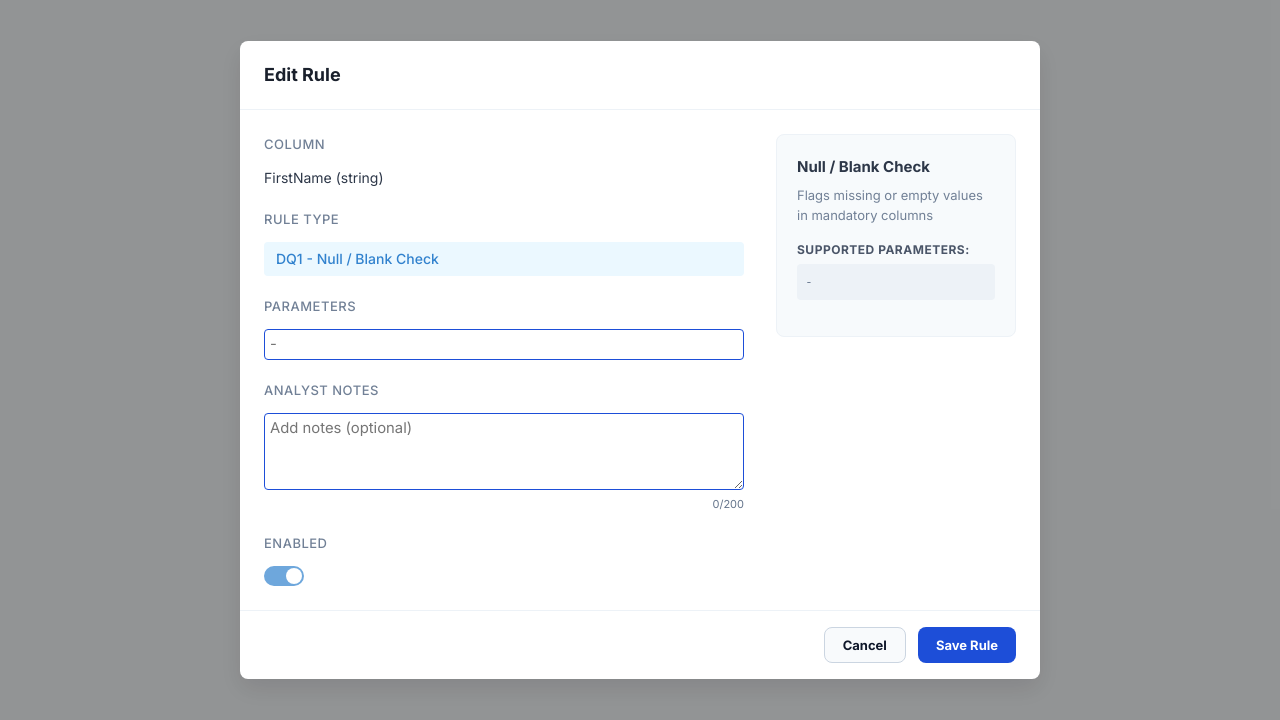
it: RuleEditModal - Analyst Notes limit › updates the counter as the user types
Type "hello" into the text box with placeholder "Add notes (optional)". click: (504,452)
box: [264, 413, 744, 490]
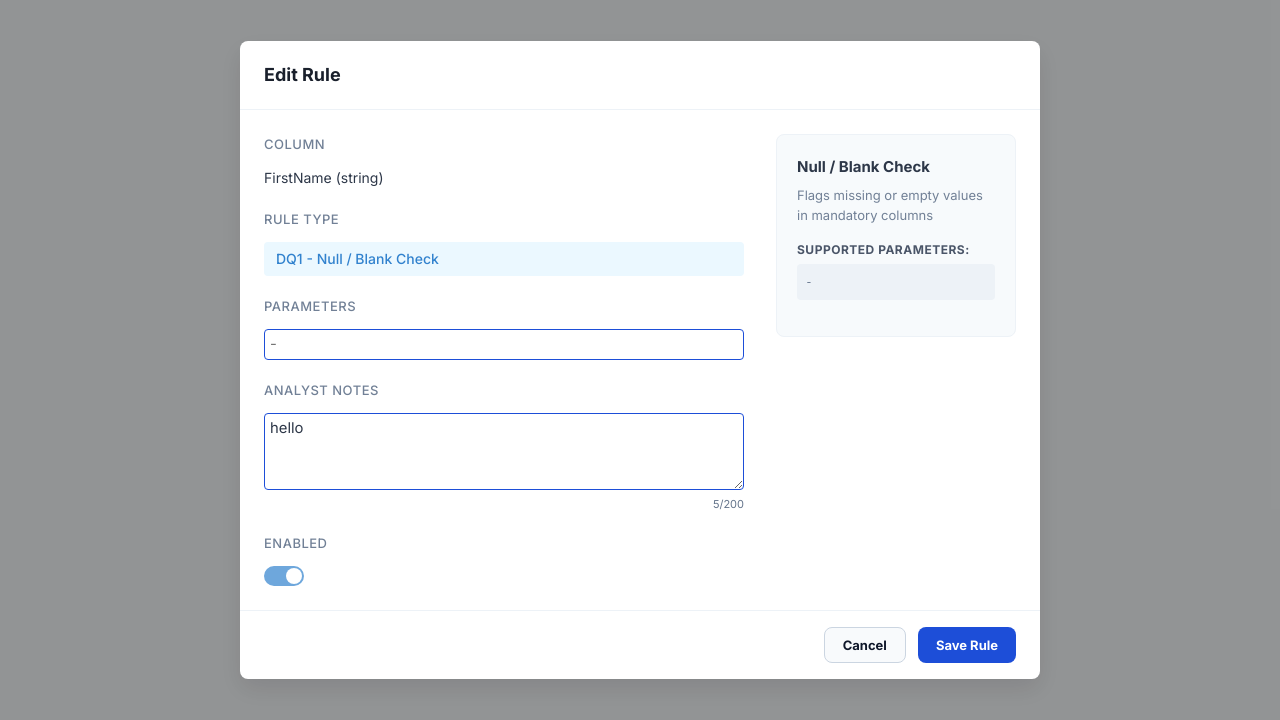
Result: the text "5/200" is shown at [713, 497, 744, 511]
